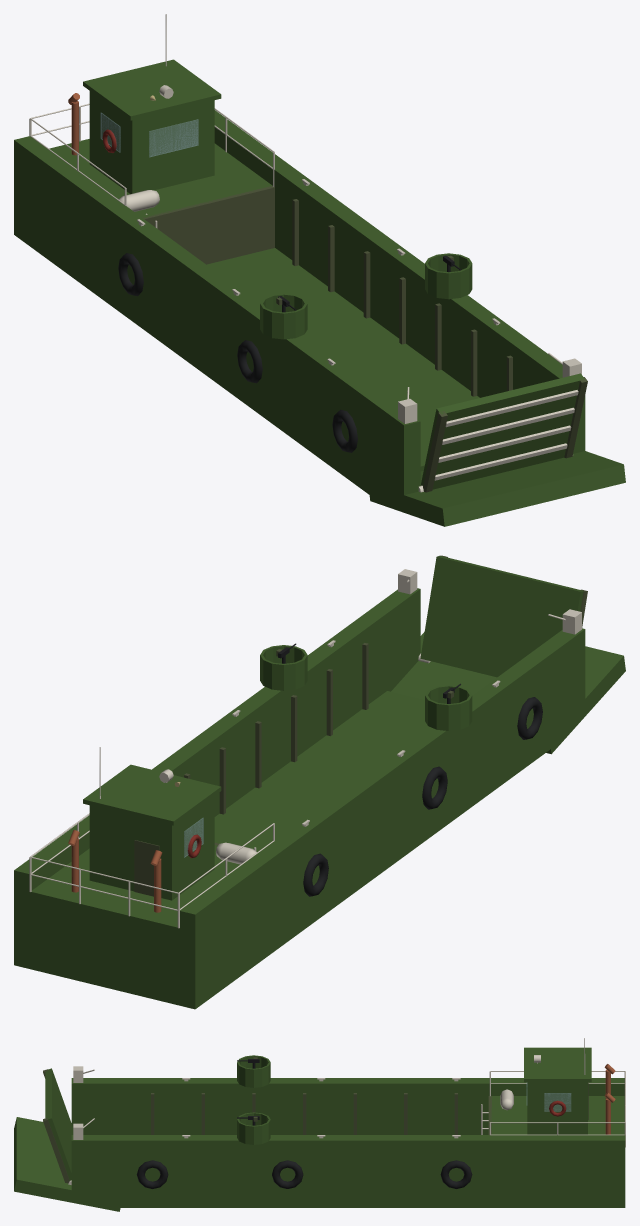
Rendered from lcm-8-mike-boat.glb.
3 views of the same model, one above another, from view 1: azimuth 30°, elevation 25°; view 2: azimuth 150°, elevation 25°; view 3: azimuth 270°, elevation 25° (orthographic). The views are drawn at different scales.
Visible parts, largest first — view 1: Mesh_WallRight, Mesh_WallLeft, Mesh_HullBottom, Mesh_Pilothouse, Mesh_BowSlant, Mesh_RampPlate, Mesh_AftBulkhead, Mesh_CabinRoof, Mesh_AftDeck, Mesh_FrontPostRight, Mesh_RightTub, Mesh_LeftTub (+9 smaller); view 2: Mesh_WallRight, Mesh_HullBottom, Mesh_WallLeft, Mesh_AftDeck, Mesh_RampPlate, Mesh_Pilothouse, Mesh_CabinRoof, Mesh_BowSlant, Mesh_LeftTub, Mesh_RightTub, Mesh_CabinDoor, Mesh_FrontPostRight (+4 smaller); view 3: Mesh_WallLeft, Mesh_WallRight, Mesh_HullBottom, Mesh_BowSlant, Mesh_Pilothouse, Mesh_AftDeck, Mesh_CabinRoof, Mesh_RampPlate, Mesh_RightTub, Mesh_LeftTub, Mesh_FrontPostLeft, Mesh_FrontPostRight (+7 smaller).
Boxes of the visible parts, x1,y1,x2,y2 form: Mesh_WallRight: [14, 136, 397, 503]; Mesh_WallLeft: [214, 110, 562, 397]; Mesh_HullBottom: [14, 218, 479, 495]; Mesh_Pilothouse: [89, 91, 214, 193]; Mesh_BowSlant: [369, 451, 625, 526]; Mesh_RampPlate: [420, 373, 584, 489]; Mesh_AftBulkhead: [142, 185, 274, 264]; Mesh_CabinRoof: [83, 59, 221, 120]; Mesh_AftDeck: [49, 139, 272, 217]; Mesh_FrontPostRight: [394, 417, 420, 506]; Mesh_RightTub: [260, 293, 307, 339]; Mesh_LeftTub: [425, 253, 472, 299]; Mesh_WallRight: [178, 632, 575, 1000]; Mesh_HullBottom: [14, 691, 551, 1009]; Mesh_WallLeft: [14, 592, 410, 960]; Mesh_AftDeck: [30, 845, 239, 987]; Mesh_RampPlate: [420, 556, 584, 677]; Mesh_Pilothouse: [89, 796, 214, 900]; Mesh_CabinRoof: [83, 764, 221, 825]; Mesh_BowSlant: [391, 632, 625, 754]; Mesh_LeftTub: [260, 645, 307, 690]; Mesh_RightTub: [425, 685, 472, 730]; Mesh_CabinDoor: [134, 840, 159, 896]; Mesh_FrontPostRight: [560, 628, 585, 708]; Mesh_WallLeft: [85, 1135, 625, 1201]; Mesh_WallRight: [85, 1078, 624, 1134]; Mesh_HullBottom: [119, 1195, 625, 1207]; Mesh_BowSlant: [14, 1117, 122, 1211]; Mesh_Pilothouse: [527, 1082, 587, 1134]; Mesh_AftDeck: [490, 1096, 624, 1134]; Mesh_CabinRoof: [524, 1047, 591, 1082]; Mesh_RampPlate: [45, 1068, 73, 1180]; Mesh_RightTub: [237, 1055, 270, 1087]; Mesh_LeftTub: [237, 1112, 270, 1144]; Mesh_FrontPostLeft: [71, 1135, 84, 1193]; Mesh_FrontPostRight: [71, 1078, 84, 1134].
Bounding box in the file's own units: 5 × 5.03 × 18.13.
2 materials, 2 textured.
